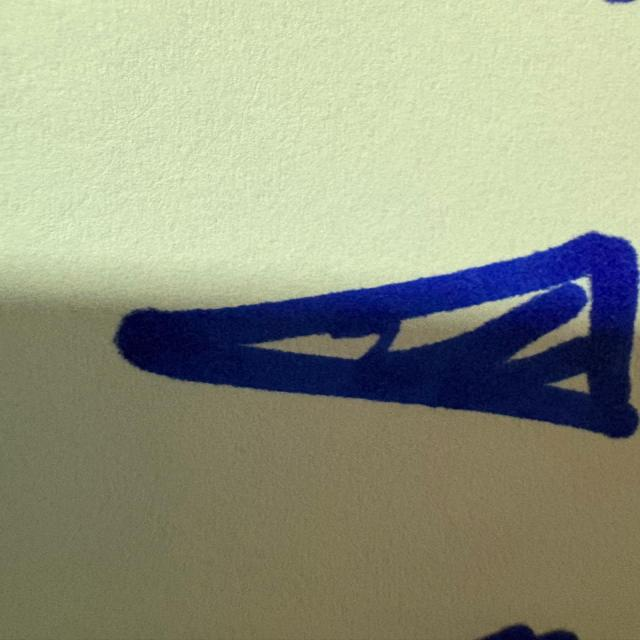Triangle: (108, 221, 640, 440)
